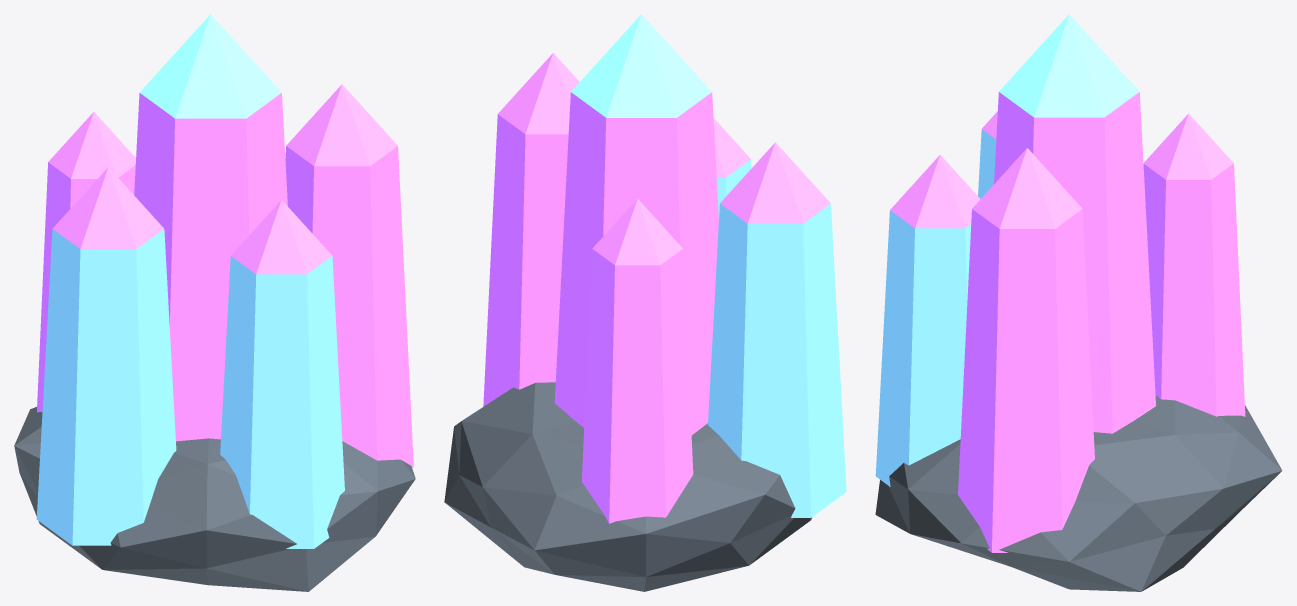
File: crystal-cluster.glb
3 renders of one model, left to right at view 1: azimuth 30°, elevation 25°; view 2: azimuth 150°, elevation 25°; view 3: azimuth 270°, elevation 25°, orthographic.
Parts seen in each view (by area): view 1: crystal-cluster-purple, crystal-cluster-crystal, crystal-cluster-gunmetal, crystal-cluster-cyan; view 2: crystal-cluster-purple, crystal-cluster-gunmetal, crystal-cluster-crystal, crystal-cluster-cyan; view 3: crystal-cluster-purple, crystal-cluster-gunmetal, crystal-cluster-crystal, crystal-cluster-cyan.
Boxes of the visible parts, x1,y1,x2,y2 form: crystal-cluster-purple: (37,84,413,467); crystal-cluster-crystal: (36,229,344,548); crystal-cluster-gunmetal: (14,407,415,591); crystal-cluster-cyan: (139,14,281,118); crystal-cluster-purple: (483,53,830,523); crystal-cluster-gunmetal: (444,382,812,591); crystal-cluster-crystal: (708,159,846,517); crystal-cluster-cyan: (571,14,711,117); crystal-cluster-purple: (890,92,1245,552); crystal-cluster-gunmetal: (875,395,1282,591); crystal-cluster-crystal: (875,129,996,486); crystal-cluster-cyan: (999,14,1139,117).
Size of the model in its own units: 1.25 by 1.78 by 1.23.
